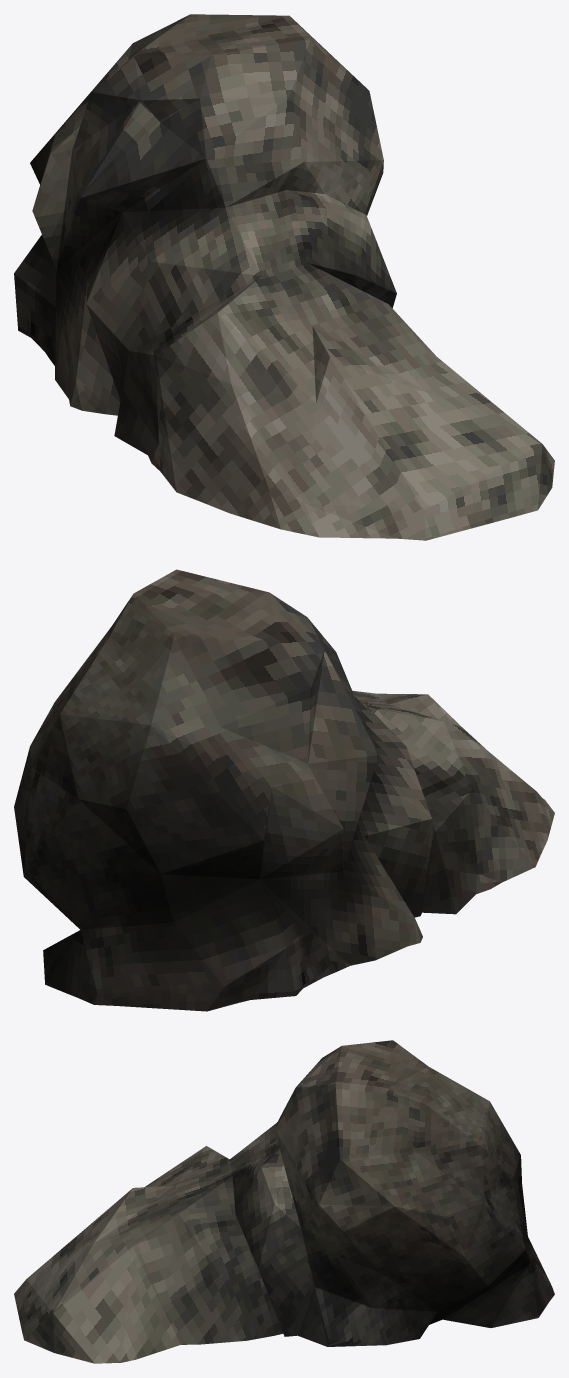
Rendered from rocks_04.glb.
The picture shows the model from 3 angles, top to bottom: view 1: azimuth 30°, elevation 25°; view 2: azimuth 150°, elevation 25°; view 3: azimuth 270°, elevation 25°; orthographic projection. The views are drawn at different scales.
Visible parts, largest first — view 1: rocks_04; view 2: rocks_04; view 3: rocks_04.
Boxes of the visible parts, x1,y1,x2,y2 form: rocks_04: [14, 14, 554, 540]; rocks_04: [14, 569, 554, 1011]; rocks_04: [14, 1040, 554, 1363].
Size of the model in its own units: 7.12 by 6.83 by 13.33.
1 material, 1 textured.
